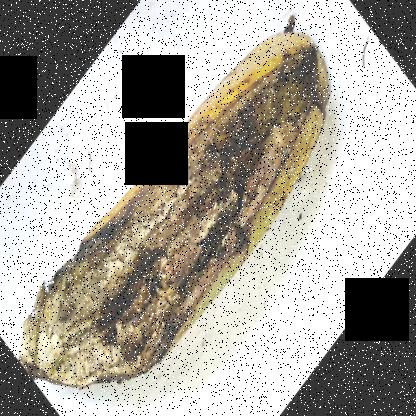rotten: (15, 39, 334, 389)
